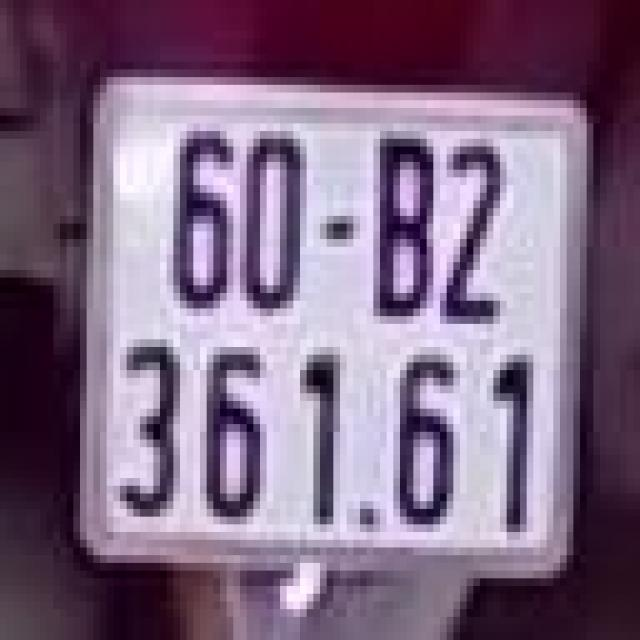0: (244, 108, 324, 324)
1: (283, 335, 350, 559), (483, 332, 550, 548)
2: (446, 135, 506, 343)
3: (100, 328, 187, 528)
6: (384, 328, 464, 551), (160, 120, 240, 320), (200, 332, 273, 524)
B: (357, 120, 450, 336)
